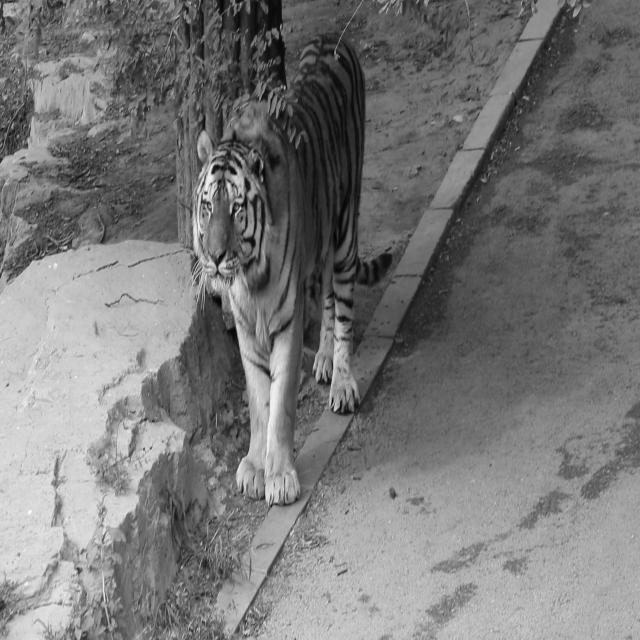Tiger: (185, 32, 392, 506)
